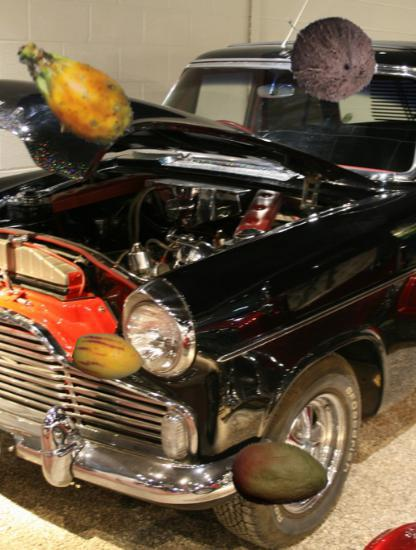Cactus: (4, 20, 144, 160)
Cocos: (288, 15, 379, 106)
Papaya: (227, 422, 330, 525)
Pepino: (73, 322, 145, 394)
